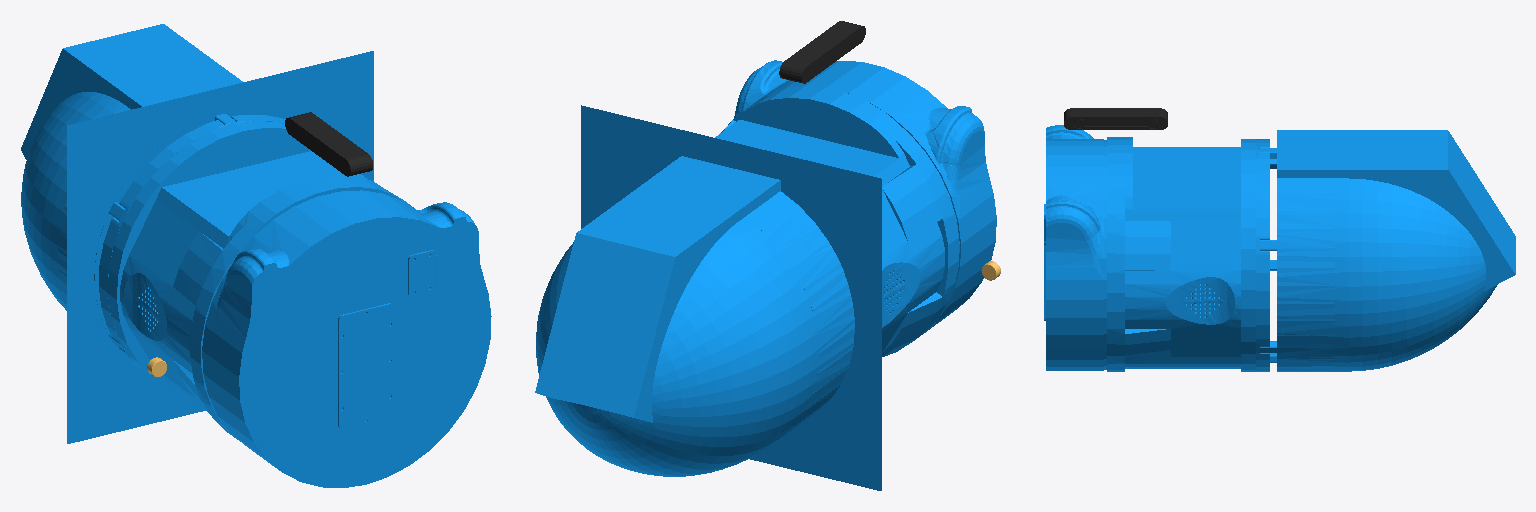
URDF robot description (waiterbot_description):
<robot
  name="waiterbot_description">
  <link name="base_footprint"/>
    <joint name="base_joint" type="fixed">
      <origin xyz="0 0 0.0102" rpy="0 0 0" />
      <parent link="base_footprint"/>
      <child link="base_link" />
    </joint>
  <link
    name="base_link">
    <inertial>
      <origin
        xyz="-0.0996669957747876 1.45131214129999E-05 0.354341697716168"
        rpy="0 0 0" />
      <mass
        value="80.1722695309394" />
      <inertia
        ixx="4.45627593650221"
        ixy="-0.000120784019756137"
        ixz="-0.0663886125014259"
        iyy="4.45433930232212"
        iyz="0.000402253446569661"
        izz="1.47601648850678" />
    </inertial>
    <visual>
      <origin
        xyz="0 0 0"
        rpy="0 0 0" />
      <geometry>
        <mesh
          filename="package://waiterbot_description/meshes/base_link.STL" />
      </geometry>
      <material
        name="">
        <color
          rgba="0.117647058823529 0.658823529411765 1 1" />
      </material>
    </visual>
    <collision>
      <origin
        xyz="0 0 0"
        rpy="0 0 0" />
      <geometry>
        <mesh
          filename="package://waiterbot_description/meshes/base_link.STL" />
      </geometry>
    </collision>
  </link>
  <link
    name="left_wheel_Link">
    <inertial>
      <origin
        xyz="0 0 0"
        rpy="0 0 0" />
      <mass
        value="0.214252405612172" />
      <inertia
        ixx="0.000179109395223178"
        ixy="1.74518243681741E-11"
        ixz="3.57851021254128E-14"
        iyy="0.000301767221213604"
        iyz="7.9272265953424E-14"
        izz="0.000179081236639626" />
    </inertial>
    <visual>
      <origin
        xyz="0 0 0"
        rpy="0 0 0" />
      <geometry>
        <mesh
          filename="package://waiterbot_description/meshes/left_wheel_Link.STL" />
      </geometry>
      <material
        name="">
        <color
          rgba="1 1 1 1" />
      </material>
    </visual>
    <collision>
      <origin
        xyz="0 0 0"
        rpy="0 0 0" />
      <geometry>
        <mesh
          filename="package://waiterbot_description/meshes/left_wheel_Link.STL" />
      </geometry>
    </collision>
  </link>
  <joint
    name="left_wheel_joint"
    type="continuous">
    <origin
      xyz="0 0.147897664300195 0.0274999999693413"
      rpy="0 0 0" />
    <parent
      link="base_link" />
    <child
      link="left_wheel_Link" />
    <axis
      xyz="0 1 0" />
  </joint>
  <link
    name="right_wheel_Link">
    <inertial>
      <origin
        xyz="0 0 0"
        rpy="0 0 0" />
      <mass
        value="0.214252405507579" />
      <inertia
        ixx="0.000179109395198057"
        ixy="-1.75373762792168E-11"
        ixz="-1.0028090968596E-13"
        iyy="0.000301767221051853"
        iyz="6.65719731111029E-14"
        izz="0.000179081236452865" />
    </inertial>
    <visual>
      <origin
        xyz="0 0 0"
        rpy="0 0 0" />
      <geometry>
        <mesh
          filename="package://waiterbot_description/meshes/right_wheel_Link.STL" />
      </geometry>
      <material
        name="">
        <color
          rgba="1 1 1 1" />
      </material>
    </visual>
    <collision>
      <origin
        xyz="0 0 0"
        rpy="0 0 0" />
      <geometry>
        <mesh
          filename="package://waiterbot_description/meshes/right_wheel_Link.STL" />
      </geometry>
    </collision>
  </link>
  <joint
    name="right_wheel_joint"
    type="continuous">
    <origin
      xyz="0 -0.147897664300856 0.0275000000281899"
      rpy="0 0 0" />
    <parent
      link="base_link" />
    <child
      link="right_wheel_Link" />
    <axis
      xyz="0 1 0" />
  </joint>
  <link
    name="omni_wheel_Link">
    <inertial>
      <origin
        xyz="0 6.51512757319569E-20 0"
        rpy="0 0 0" />
      <mass
        value="0.00634815361064737" />
      <inertia
        ixx="3.35342847845056E-07"
        ixy="-2.04764363484238E-18"
        ixz="2.08969324119687E-21"
        iyy="4.93529263557337E-07"
        iyz="1.0919258939827E-15"
        izz="3.35312650108157E-07" />
    </inertial>
    <visual>
      <origin
        xyz="0 0 0"
        rpy="0 0 0" />
      <geometry>
        <mesh
          filename="package://waiterbot_description/meshes/omni_wheel_Link.STL" />
      </geometry>
      <material
        name="">
        <color
          rgba="1 0.807843137254902 0.458823529411765 1" />
      </material>
    </visual>
    <collision>
      <origin
        xyz="0 0 0"
        rpy="0 0 0" />
      <geometry>
        <mesh
          filename="package://waiterbot_description/meshes/omni_wheel_Link.STL" />
      </geometry>
    </collision>
  </link>
  <joint
    name="omni_wheel_joint"
    type="fixed">
    <origin
      xyz="-0.260000004749928 0 -0.0100000000089026"
      rpy="0 0 0" />
    <parent
      link="base_link" />
    <child
      link="omni_wheel_Link" />
    <axis
      xyz="0 0 0" />
  </joint>
  <!--link
    name="kinect2_link">
    <inertial>
      <origin
        xyz="5.00413110110391E-05 0.143804354117406 0.112167590252249"
        rpy="0 0 0" />
      <mass
        value="0.819847601278127" />
      <inertia
        ixx="0.00058543011881325"
        ixy="-3.87035163303318E-07"
        ixz="-3.91817878812889E-09"
        iyy="0.00432193908675339"
        iyz="2.63136905263757E-05"
        izz="0.00416131242714742" />
    </inertial>
    <visual>
      <origin
        xyz="0 0 0"
        rpy="0 0 0" />
      <geometry>
        <mesh
          filename="package://waiterbot_description/meshes/kinect2_link.STL" />
      </geometry>
      <material
        name="">
        <color
          rgba="0.549019607843137 0.219607843137255 0.109803921568627 1" />
      </material>
    </visual>
    <collision>
      <origin
        xyz="0 0 0"
        rpy="0 0 0" />
      <geometry>
        <mesh
          filename="package://waiterbot_description/meshes/kinect2_link.STL" />
      </geometry>
    </collision>
  </link>
  <joint
    name="kinect2_joint"
    type="fixed">
    <origin
      xyz="-0.1 0 0.12"
      rpy="1.5707963267949 0 1.5707963267949" />
    <parent
      link="base_link" />
    <child
      link="kinect2_link" />
    <axis
      xyz="0 0 0" />
  </joint-->

  <link
    name="camera_link">
    <inertial>
      <origin
        xyz="1.3878E-17 1.1102E-16 -0.00026767"
        rpy="0 0 0" />
      <mass
        value="0.154" />
      <inertia
        ixx="2.4237E-05"
        ixy="-9.6537E-22"
        ixz="-8.3256E-21"
        iyy="0.00041068"
        iyz="-2.6916E-22"
        izz="0.00040212" />
    </inertial>
    <visual>
      <origin
        xyz="0 0 0"
        rpy="1.5708 0 1.5708" />
      <geometry>
        <mesh
          filename="package://water_description/meshes/camera_link.stl" />
      </geometry>
      <material
        name="">
        <color
          rgba="0.2 0.2 0.2 1" />
      </material>
    </visual>
    <collision>
      <origin
        xyz="0 0 0"
        rpy="0 0 0" />
      <geometry>
        <mesh
          filename="package://water_description/meshes/camera_link.stl" />
      </geometry>
    </collision>
  </link>
  <joint
    name="camera_joint"
    type="fixed">
    <origin
      xyz="0.0121675902522488 5.0041311011069E-05 0.263804354117406"
      rpy="0 -4.482E-31 0" />
    <parent
      link="base_link" />
    <child
      link="camera_link" />
    <axis
      xyz="0 0 0" />
  </joint>
  <!--for camera sensor model -->
      <joint name="camera_depth_joint" type="fixed">
        <origin xyz="0.0 0.049 0.0" rpy="0 0 0" />
        <parent link="camera_link" />
        <child link="camera_depth_frame"/>
      </joint>
      <link name="camera_depth_frame"/>

      <joint name="camera_depth_optical_joint" type="fixed">
        <origin xyz="0 0 0" rpy="-1.5708 0.0 -1.5708" />
        <parent link="camera_depth_frame" />
        <child link="camera_depth_optical_frame"/>
      </joint>

      <link name="camera_depth_optical_frame"/>

      <joint name="camera_rgb_joint" type="fixed">
        <origin xyz="0.0 0.022 0.0" rpy="0 0 0" />
        <parent link="camera_link" />
        <child link="camera_rgb_frame"/>
      </joint>

      <link name="camera_rgb_frame"/>

      <joint name="camera_rgb_optical_joint" type="fixed">
        <origin xyz="0 0 0" rpy="-1.5708 0.0 -1.5708" />
        <parent link="camera_rgb_frame" />
        <child link="camera_rgb_optical_frame"/>
      </joint>
      <link name="camera_rgb_optical_frame"/>
</robot>

--- Render facts (derived) ---
Views: 3 orthographic renders of the robot side by side, from view 1: azimuth 30°, elevation 25°; view 2: azimuth 150°, elevation 25°; view 3: azimuth 270°, elevation 25°.
Model waiterbot_description with 10 links and 9 joints (2 continuous, 7 fixed), rooted at base_footprint, posed every joint at zero.
Links seen in each view (by area): view 1: base_link, camera_link; view 2: base_link, camera_link; view 3: base_link, camera_link.
Boxes of the visible links, x1=… form: base_link: x1=21, y1=24, x2=491, y2=487; camera_link: x1=285, y1=112, x2=372, y2=176; base_link: x1=535, y1=60, x2=996, y2=490; camera_link: x1=779, y1=21, x2=865, y2=83; base_link: x1=1044, y1=125, x2=1515, y2=371; camera_link: x1=1064, y1=108, x2=1167, y2=129.
Size in the robot's own frame: 0.5154 by 0.81 by 0.5188 metres.
4 mesh visuals loaded from 5 distinct referenced files (4 binary STL); not drawn: 1 (reference not matched to a file when rendering).